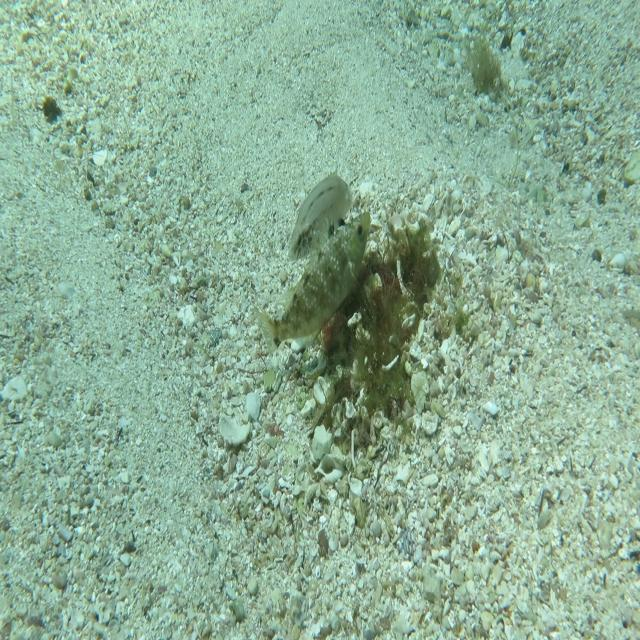BEND: (251, 210, 372, 360)
female: (286, 162, 355, 264)
nest: (308, 198, 460, 452)
